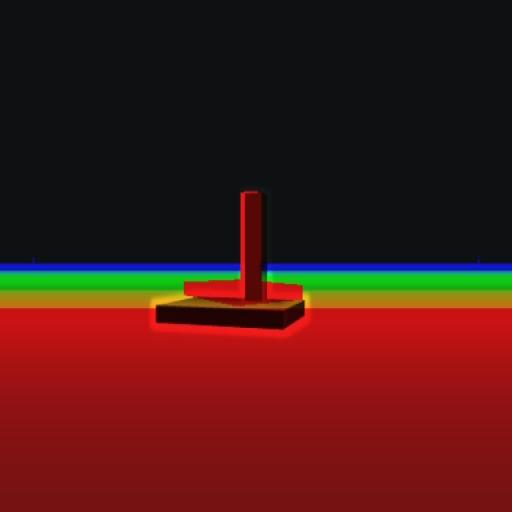platform: (156, 188, 308, 329)
